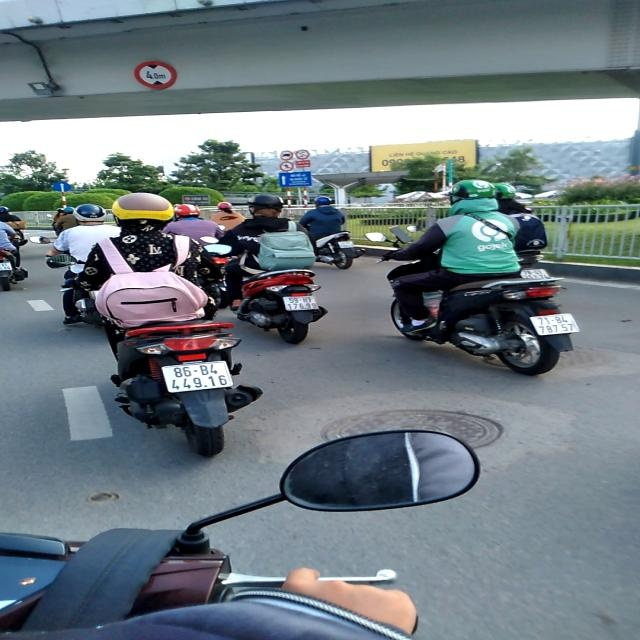bien_cam: (133, 61, 177, 89)
